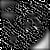node: (1, 12, 16, 19)
